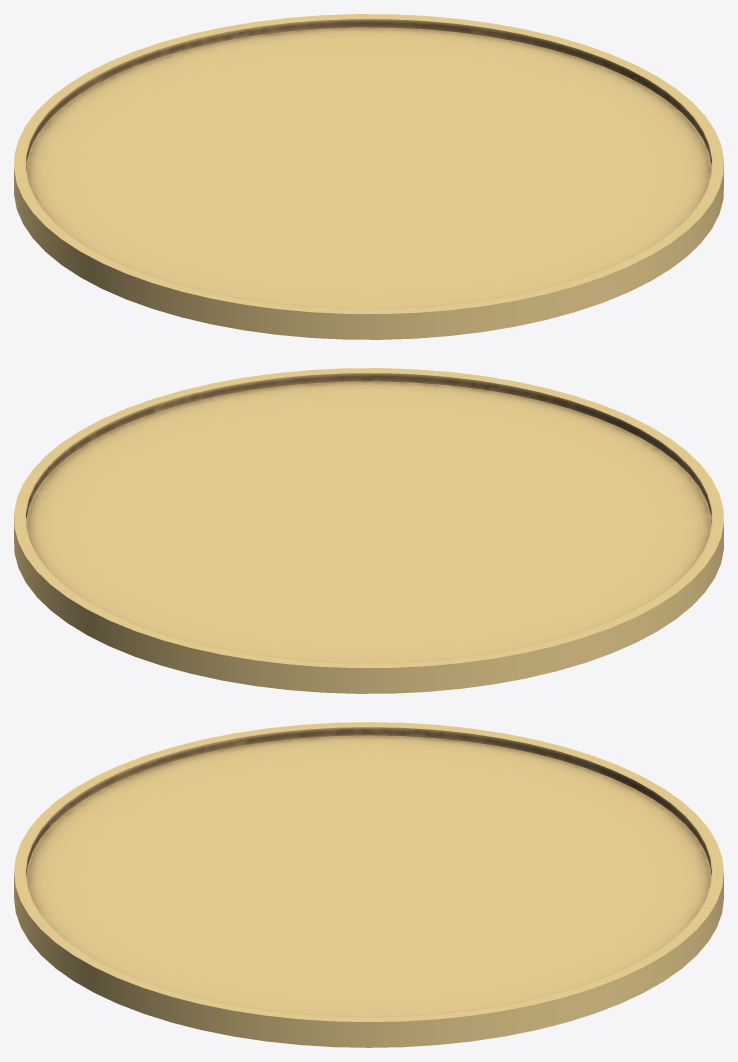
File: SimpleGoldCoin.fbx
3 renders of one model, top to bottom at view 1: azimuth 30°, elevation 25°; view 2: azimuth 150°, elevation 25°; view 3: azimuth 270°, elevation 25°, orthographic.
Visible parts, largest first — view 1: Coin64; view 2: Coin64; view 3: Coin64.
Part boxes in pixels (x1,y1,x2,y2): Coin64: (14, 14, 723, 339); Coin64: (14, 368, 723, 693); Coin64: (14, 722, 723, 1047).
Size of the model in its own units: 5 by 0.2 by 5.
Materials: 1 (1 with a texture image).
